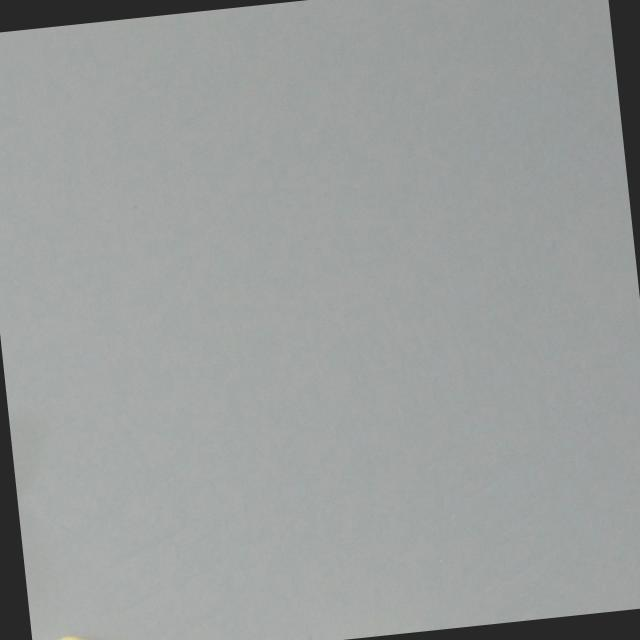pelicula: (45, 628, 116, 640)
